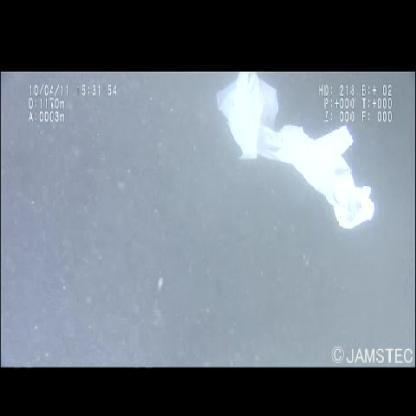Rác: (216, 73, 376, 230)
